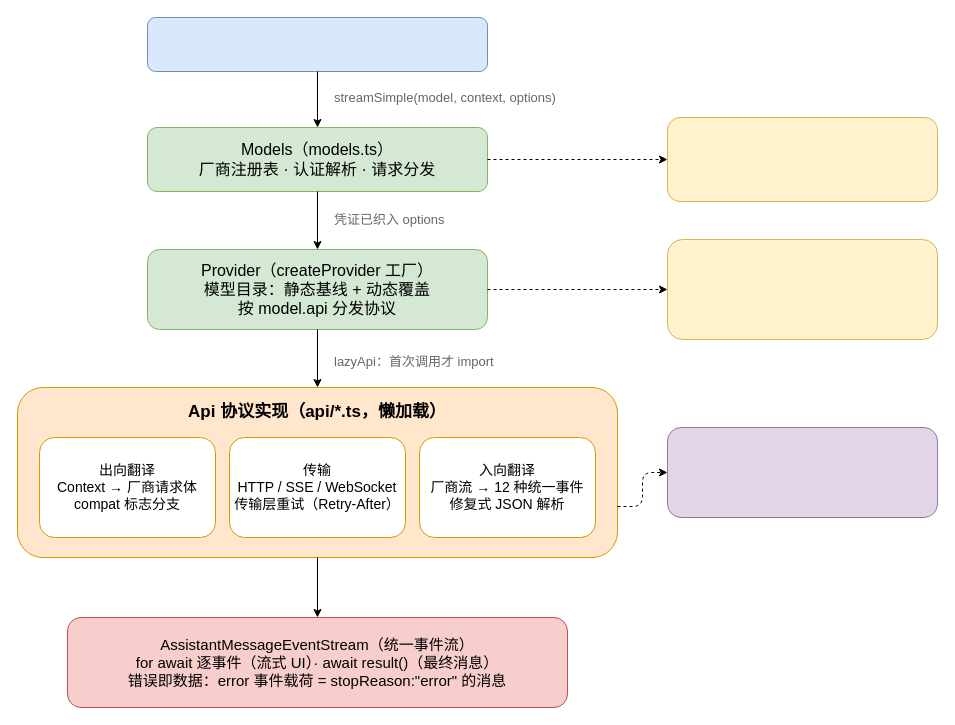
This 955x725 diagram has some shape labels left out. Here are the shapes that lost their labels. From the top down, the centre of each, then its label:
At point 317,44: "调用方（packages/agent 的循环）".
At point 802,159: "auth/ CredentialStore（串行 modify） 声明式 resolve 链 · OAuth 双检刷新".
At point 802,289: "模型目录（生成的数据） models.generated.ts 价格 / 窗口 / compat 标志 来源：models.dev + 人工修正".
At point 802,472: "30+ 厂商档案（providers/*.ts） 每份 ≈ 50 行：id · baseUrl auth · 模型清单 · 协议引用".
